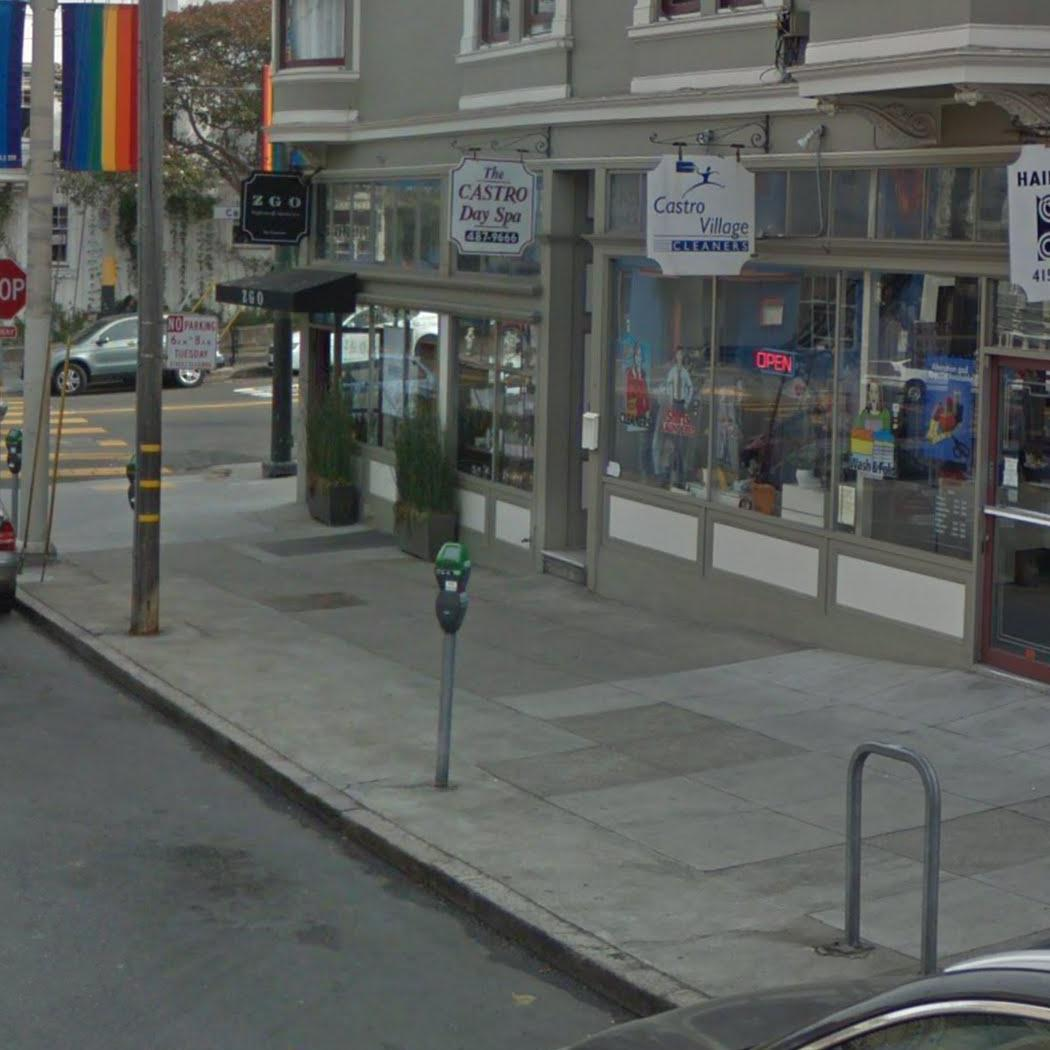No Parking: (159, 314, 221, 373)
